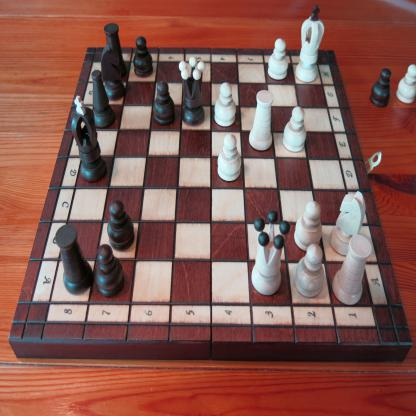black-bishop: (90, 69, 116, 129)
black-king: (70, 94, 107, 184)
black-knight: (100, 43, 126, 102)
black-pawn: (93, 242, 125, 299), (107, 198, 136, 252), (153, 80, 176, 126), (369, 67, 392, 109), (133, 36, 154, 79)
black-queen: (178, 56, 207, 127)
black-rook: (55, 223, 94, 295), (104, 22, 128, 80)
white-king: (295, 3, 325, 83)
white-knight: (326, 195, 362, 263)
white-pawn: (294, 243, 325, 299), (293, 199, 322, 252), (216, 133, 242, 183), (282, 106, 307, 152), (214, 81, 236, 127), (269, 39, 290, 80), (395, 64, 416, 104)
white-queen: (251, 209, 291, 297)
white-rook: (331, 234, 372, 306), (248, 89, 275, 152)
